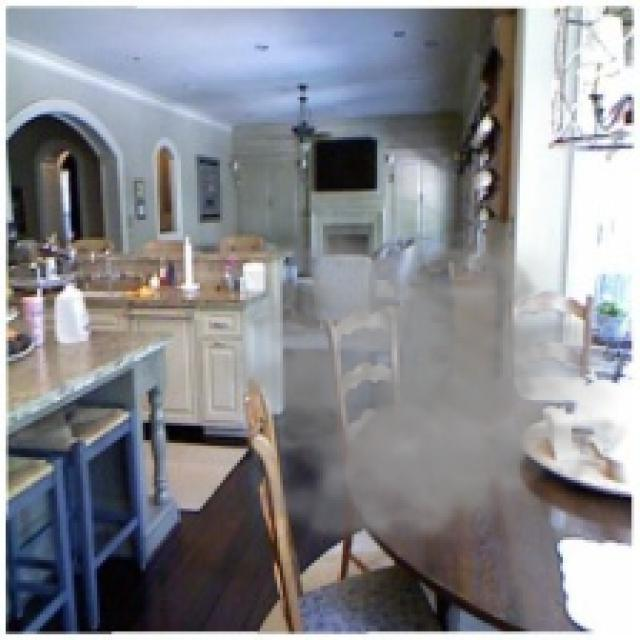Smoke: (208, 217, 632, 574)
